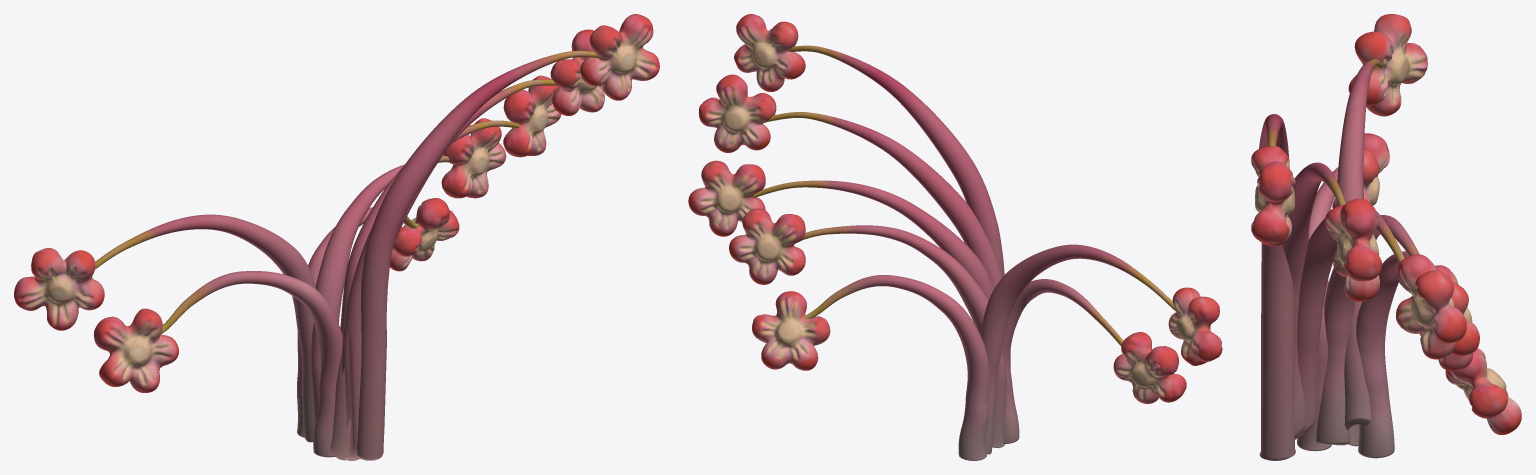
3 views of the same model, side by side, from view 1: azimuth 30°, elevation 25°; view 2: azimuth 150°, elevation 25°; view 3: azimuth 270°, elevation 25° (orthographic). The views are drawn at different scales.
Visible parts, largest first — view 1: LOD 0_6720493226539483728_d61aa4d54b65f9a4b9f71cf390cbd75f; view 2: LOD 0_6720493226539483728_d61aa4d54b65f9a4b9f71cf390cbd75f; view 3: LOD 0_6720493226539483728_d61aa4d54b65f9a4b9f71cf390cbd75f.
Boxes of the visible parts, x1,y1,x2,y2 form: LOD 0_6720493226539483728_d61aa4d54b65f9a4b9f71cf390cbd75f: (14,14,659,460); LOD 0_6720493226539483728_d61aa4d54b65f9a4b9f71cf390cbd75f: (688,14,1222,460); LOD 0_6720493226539483728_d61aa4d54b65f9a4b9f71cf390cbd75f: (1251,14,1521,460).
Size of the model in its own units: 13.85 by 8.6 by 4.66.
